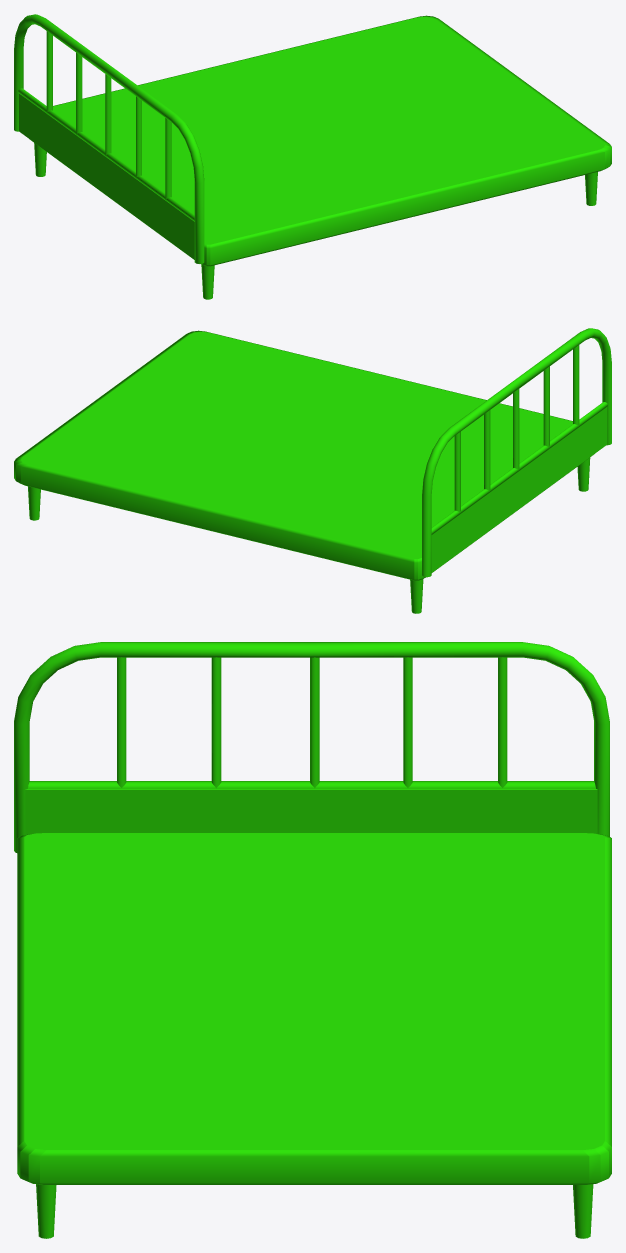
File: Bedspring_01_Lod0.fbx
3 renders of one model, top to bottom at view 1: azimuth 30°, elevation 25°; view 2: azimuth 150°, elevation 25°; view 3: azimuth 270°, elevation 25°, orthographic. The views are drawn at different scales.
Visible parts, largest first — view 1: Bedspring_01_Lod0; view 2: Bedspring_01_Lod0; view 3: Bedspring_01_Lod0.
Boxes of the visible parts, x1=… form: Bedspring_01_Lod0: x1=14, y1=14, x2=611, y2=299; Bedspring_01_Lod0: x1=14, y1=328, x2=611, y2=613; Bedspring_01_Lod0: x1=14, y1=642, x2=611, y2=1238.
Size of the model in its own units: 207 by 82.29 by 159.
